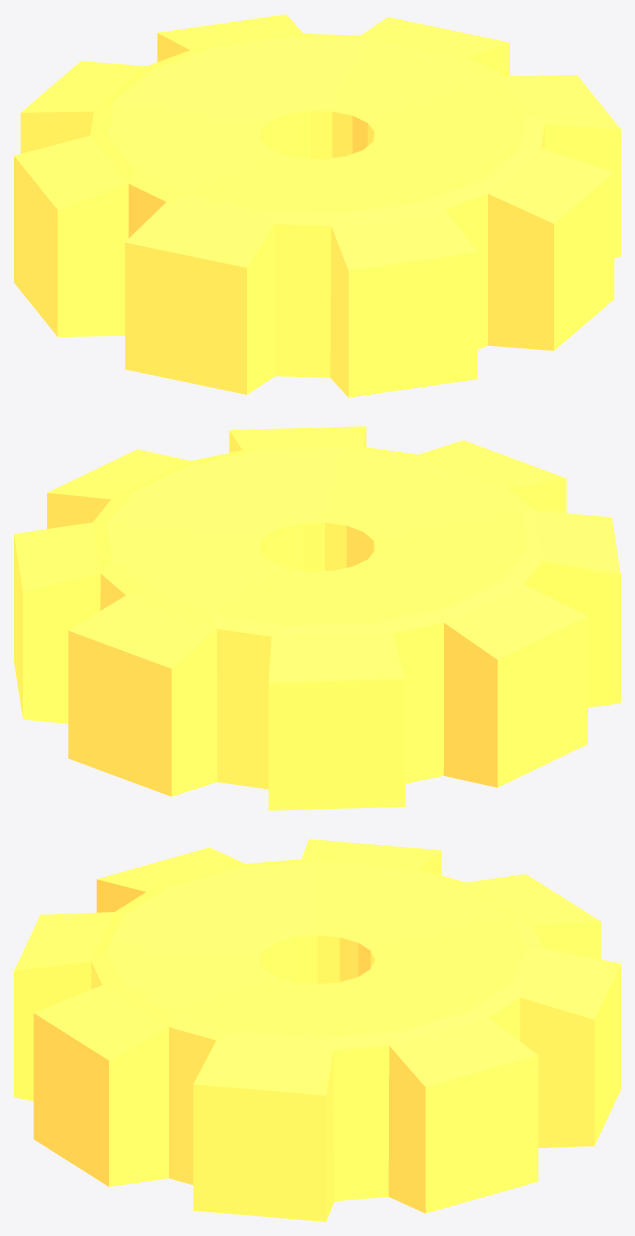
File: gearBullet.fbx
3 views of the same model, one above another, from view 1: azimuth 30°, elevation 25°; view 2: azimuth 150°, elevation 25°; view 3: azimuth 270°, elevation 25° (orthographic).
Parts seen in each view (by area): view 1: Circle; view 2: Circle; view 3: Circle.
Part boxes in pixels (x1,y1,x2,y2): Circle: (14,14,620,397); Circle: (14,426,620,810); Circle: (14,839,620,1221).
Size of the model in its own units: 261 by 74 by 261.
